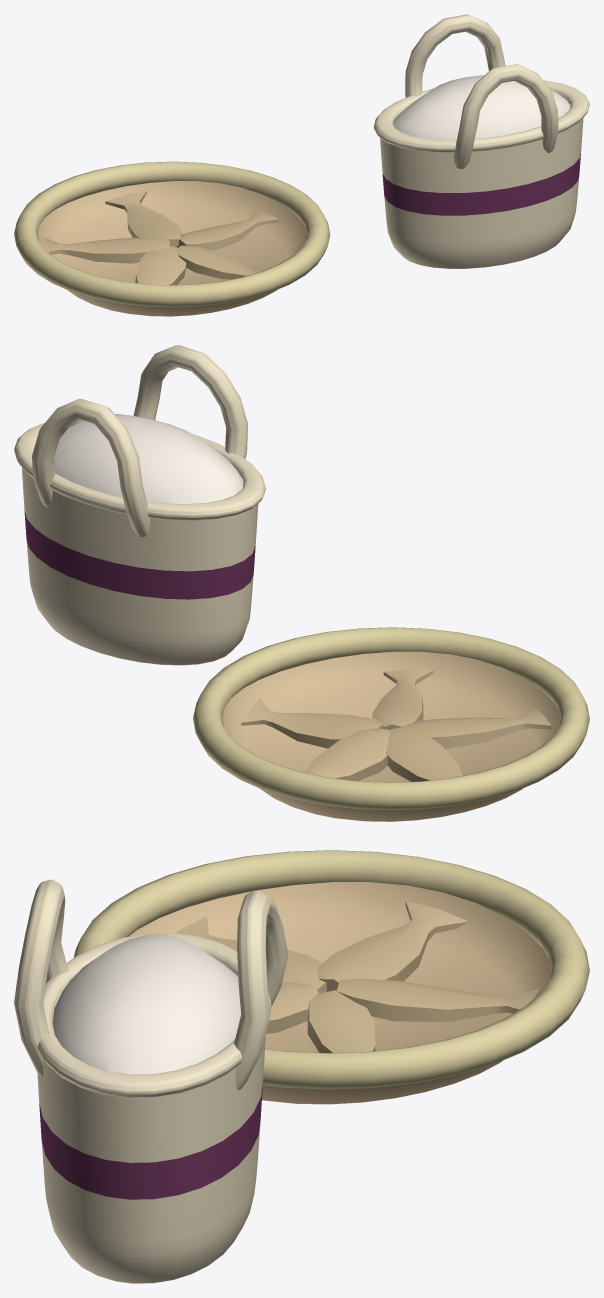
The model's file is pf_basket_1.glb.
3 views of the same model, one above another, from view 1: azimuth 30°, elevation 25°; view 2: azimuth 150°, elevation 25°; view 3: azimuth 270°, elevation 25° (orthographic). The views are drawn at different scales.
Visible parts, largest first — view 1: basket_1_pf_buri, basket_1_bamboo, basket_1_pf_rattan, basket_1_pf_fish, basket_1_pf_shells; view 2: basket_1_pf_buri, basket_1_bamboo, basket_1_pf_rattan, basket_1_pf_fish, basket_1_pf_shells; view 3: basket_1_pf_buri, basket_1_bamboo, basket_1_pf_rattan, basket_1_pf_shells, basket_1_pf_fish.
Boxes of the visible parts, bbox=[...] form: basket_1_pf_buri: bbox=[373, 14, 589, 268]; basket_1_bamboo: bbox=[14, 161, 330, 307]; basket_1_pf_rattan: bbox=[37, 181, 306, 316]; basket_1_pf_fish: bbox=[43, 190, 278, 285]; basket_1_pf_shells: bbox=[392, 75, 570, 139]; basket_1_pf_buri: bbox=[14, 345, 265, 665]; basket_1_bamboo: bbox=[193, 627, 589, 810]; basket_1_pf_rattan: bbox=[222, 651, 560, 821]; basket_1_pf_fish: bbox=[241, 669, 551, 781]; basket_1_pf_shells: bbox=[54, 414, 243, 503]; basket_1_pf_buri: bbox=[14, 879, 288, 1283]; basket_1_bamboo: bbox=[73, 850, 589, 1089]; basket_1_pf_rattan: bbox=[129, 882, 551, 1104]; basket_1_pf_shells: bbox=[52, 934, 240, 1074]; basket_1_pf_fish: bbox=[175, 901, 539, 1053].
Size of the model in its own units: 1.34 by 0.5312 by 0.8349.
